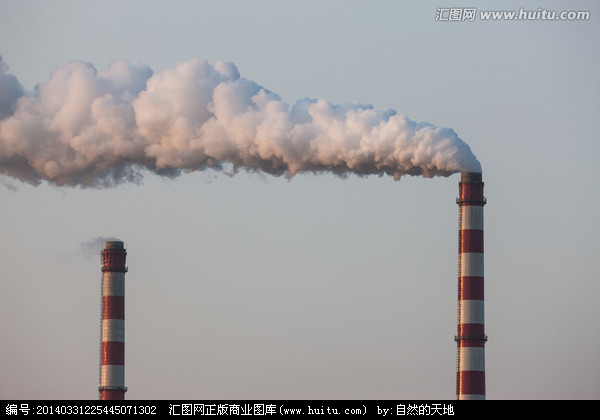dust: (238, 85, 495, 182)
